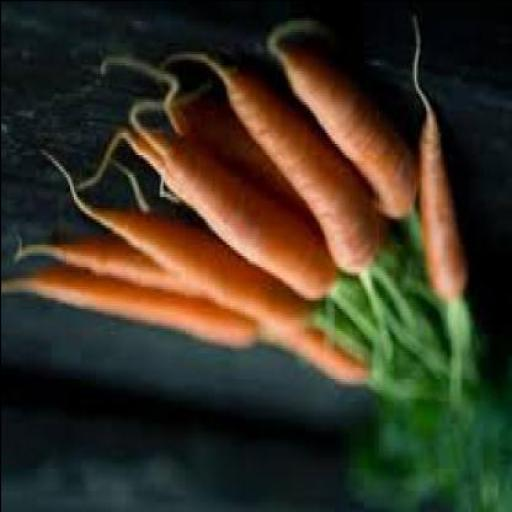biodegradable: (131, 118, 342, 308), (225, 61, 382, 277), (177, 109, 393, 252), (91, 212, 323, 330), (344, 350, 510, 510), (283, 44, 421, 224), (2, 272, 268, 350), (9, 238, 209, 299), (382, 218, 450, 394), (420, 81, 470, 308), (336, 274, 422, 398), (260, 319, 372, 391), (439, 302, 490, 401), (316, 297, 373, 369)
